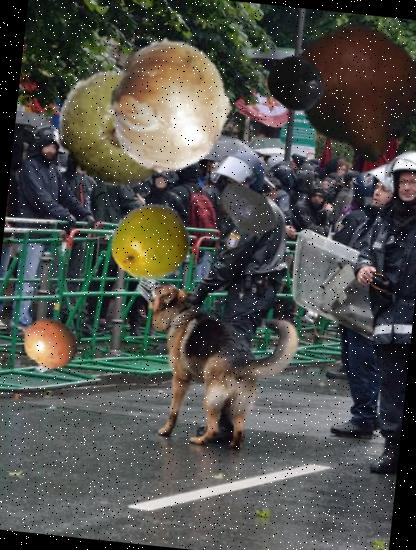Apple: (334, 37, 394, 96)
Avocado: (213, 174, 282, 243)
Granadilla: (5, 300, 85, 380)
Grape: (264, 51, 328, 116)
Guava: (50, 63, 182, 196)
Maracuja: (109, 199, 197, 287)
Onion: (97, 31, 245, 180)
Pear: (280, 17, 416, 174)
